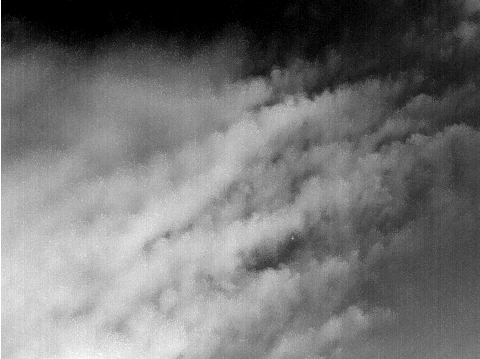dim target: (290, 236, 295, 240)
